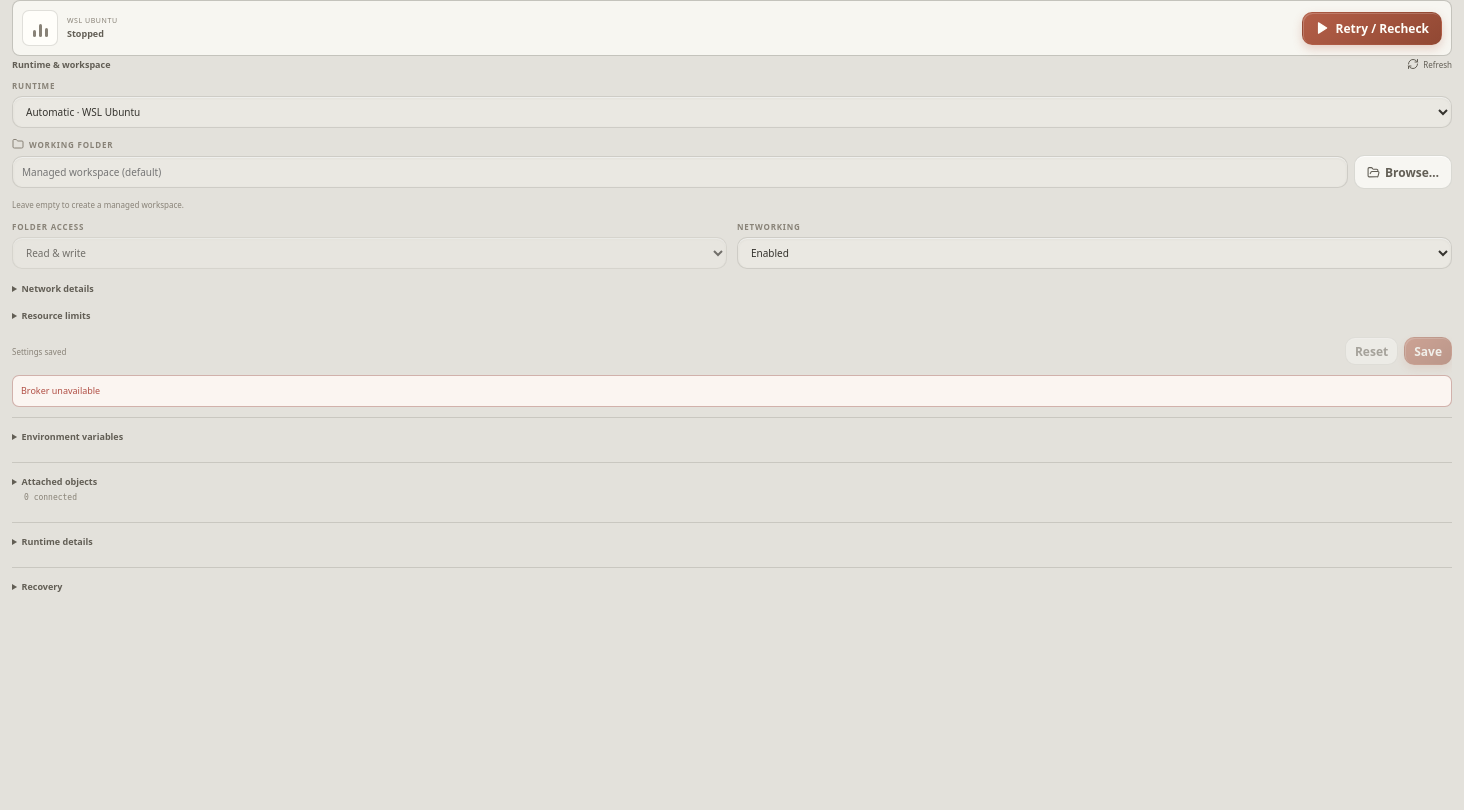
it: sandbox configuration UI › retries saved enabled policy with stale discovery, shows current failure and clears it on recovery
Click the button "Retry / Recheck" at (1372, 28), box 1302,12 -> 1442,44
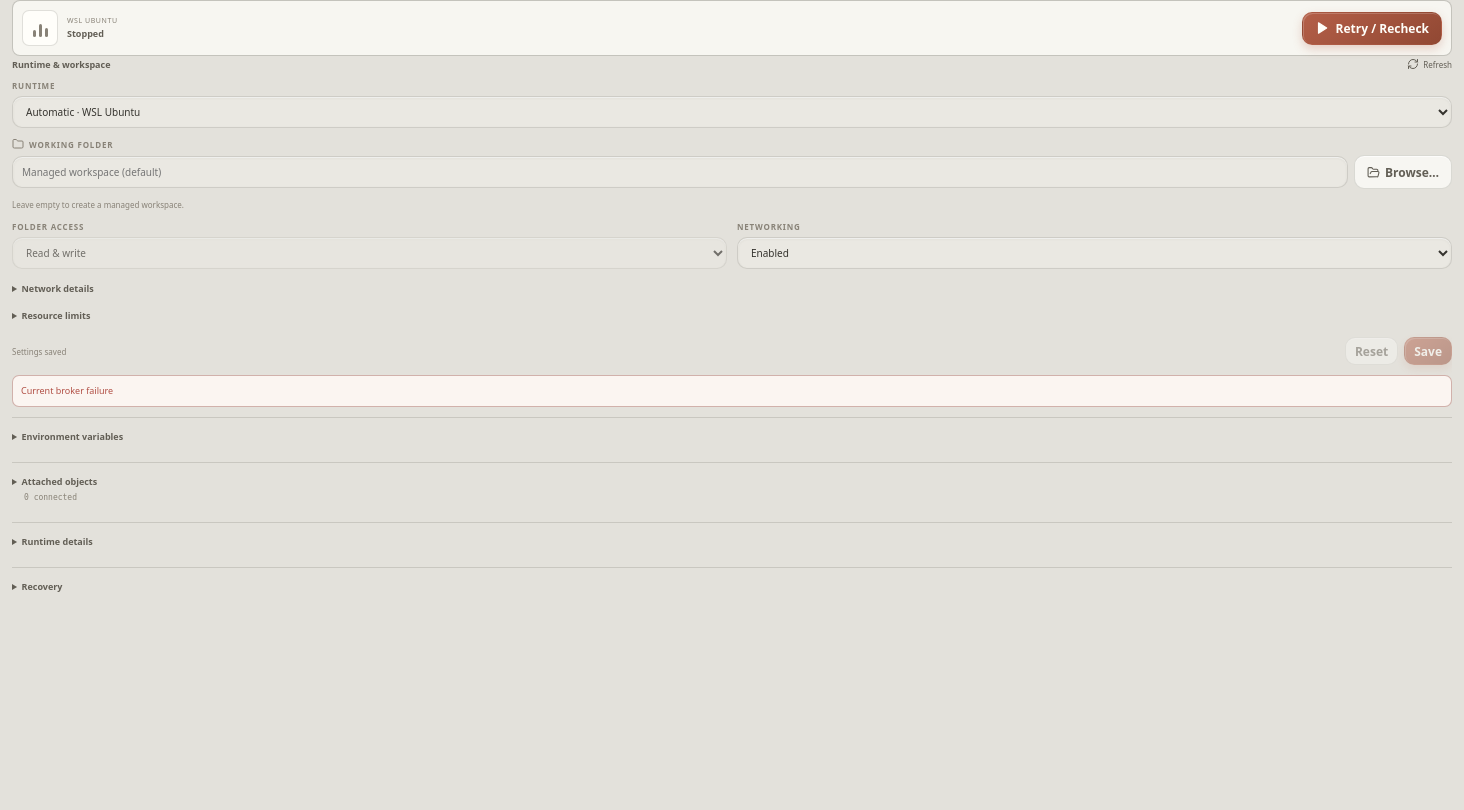
Expected: the message "Current broker failure" is shown, 12,375 -> 1452,406
Result: the text "Broker unavailable" is gone
Click the button "Retry / Recheck" at (1372, 28), box 1302,12 -> 1442,44
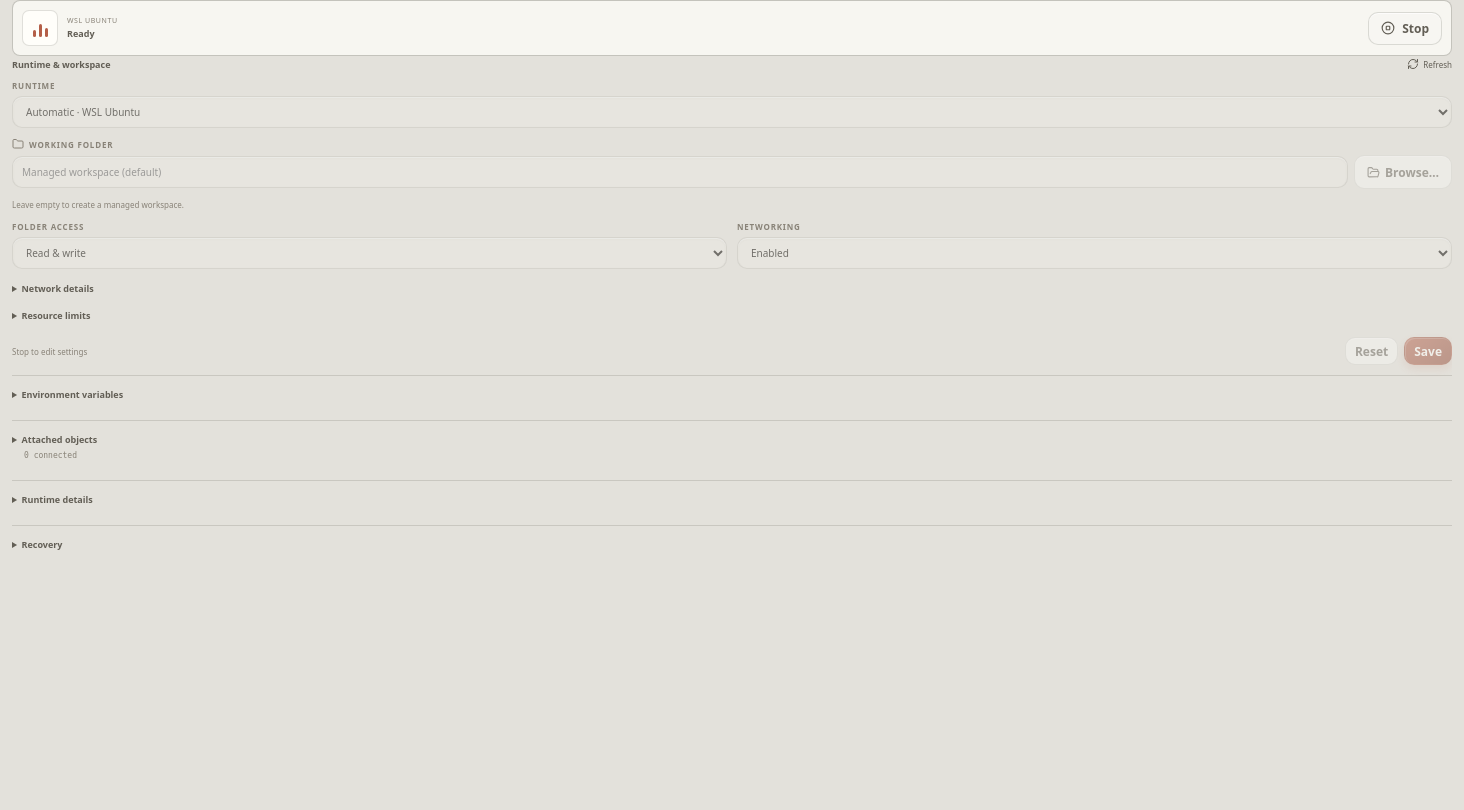
Expected: the text "Broker unavailable" is not shown
Result: the message reads "Ready" at 67,27 -> 94,40
Result: the text "Current broker failure" is gone
